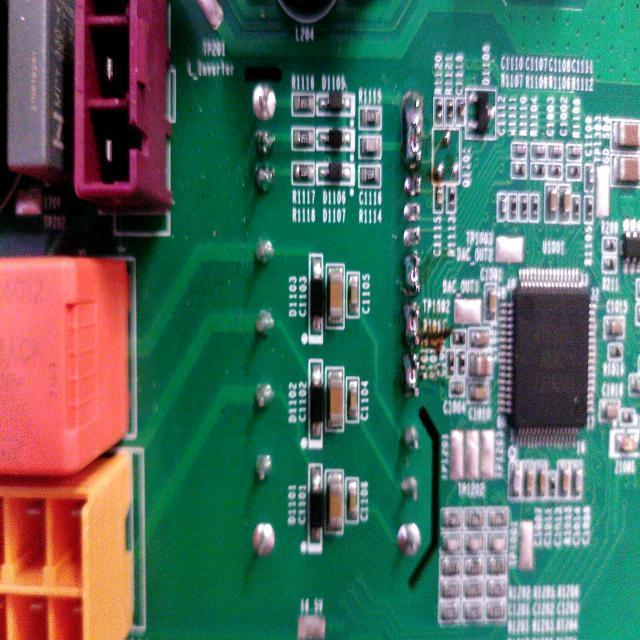Soldering shorted: (398, 86, 428, 175), (399, 299, 426, 351), (400, 351, 425, 402), (401, 253, 423, 299)
